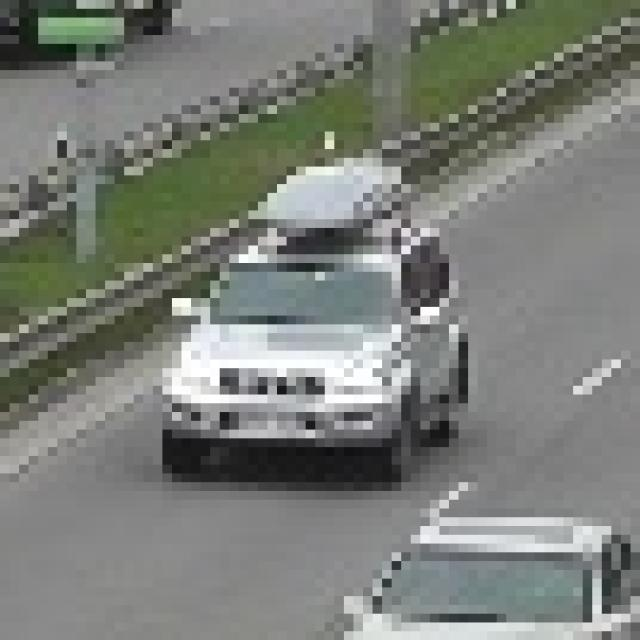SUV: (176, 226, 455, 472), (294, 523, 632, 638)
